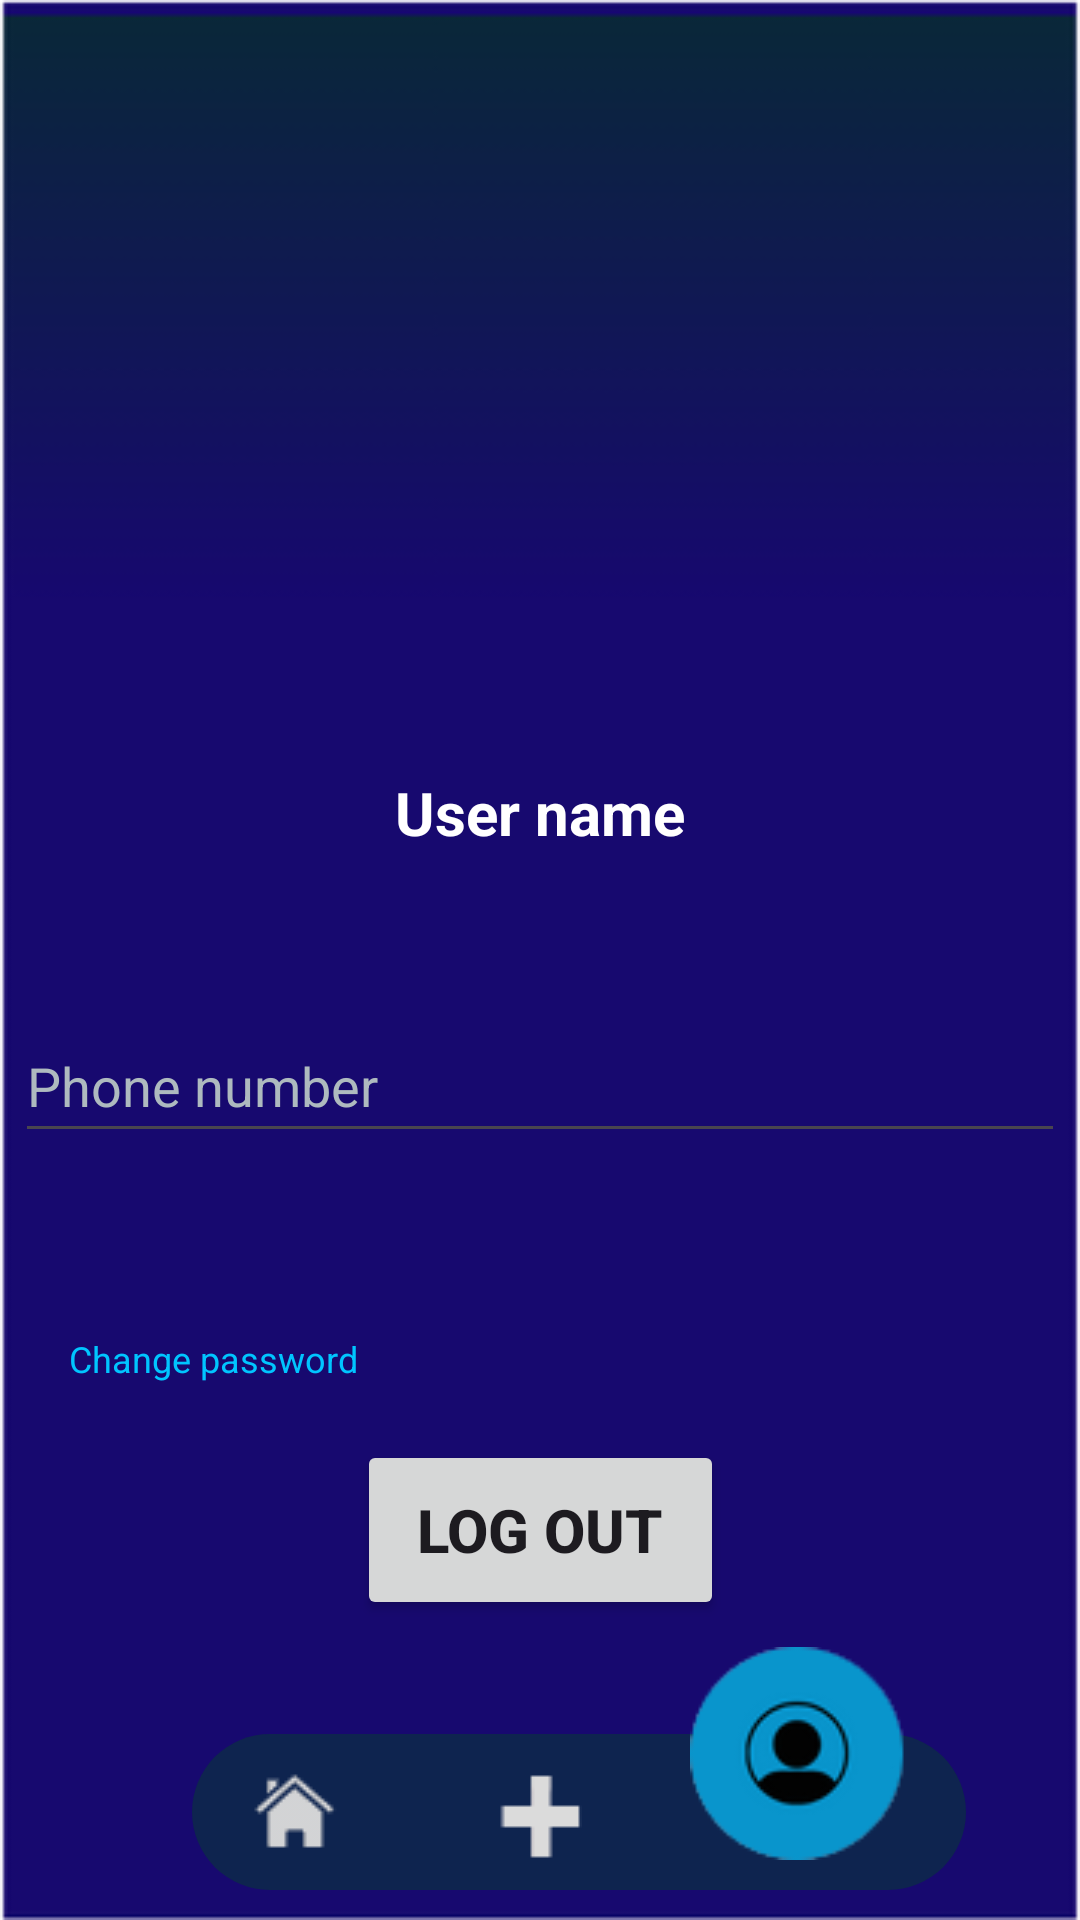

Screen size 1080*1920. Icon name, then its center in pixels as (x=x, y=y):
add: (x=540, y=1816)
home: (x=294, y=1811)
opened profile: (x=798, y=1753)
